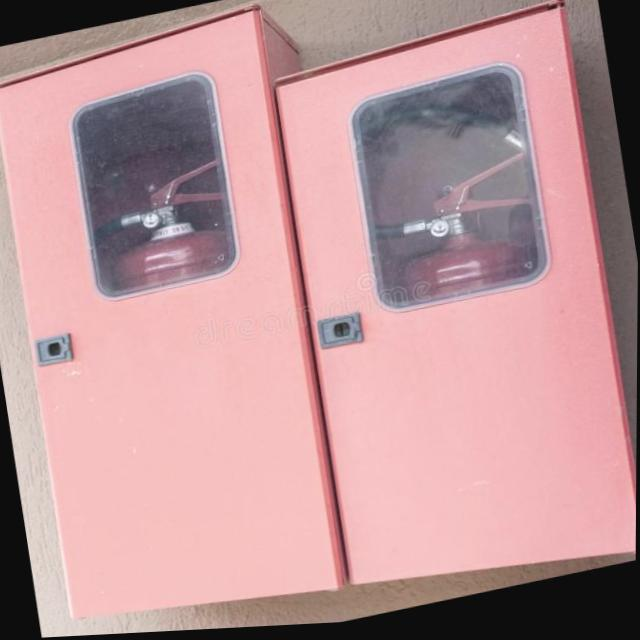FireExtinguisher: (310, 75, 608, 581), (74, 144, 318, 606)
